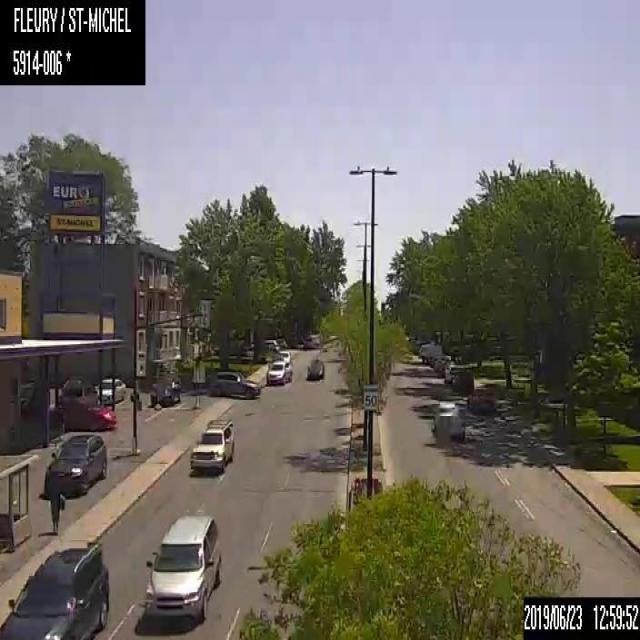pedestrian: (50, 470, 64, 534)
vehicle: (0, 546, 108, 638), (144, 512, 222, 623), (43, 433, 106, 495), (188, 416, 235, 472), (56, 400, 116, 430), (204, 368, 261, 397), (431, 400, 464, 437), (58, 375, 98, 404), (263, 350, 292, 386), (95, 377, 125, 403), (149, 380, 180, 404), (467, 389, 494, 412), (452, 371, 473, 394), (304, 359, 324, 380), (434, 356, 449, 370), (445, 364, 457, 381), (262, 338, 279, 349), (278, 350, 291, 361), (0, 632, 2, 639)
